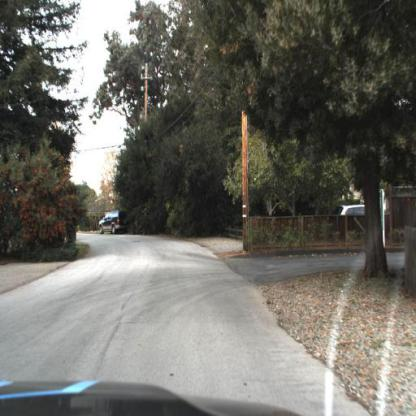car: (334, 199, 381, 226), (95, 205, 128, 241)
